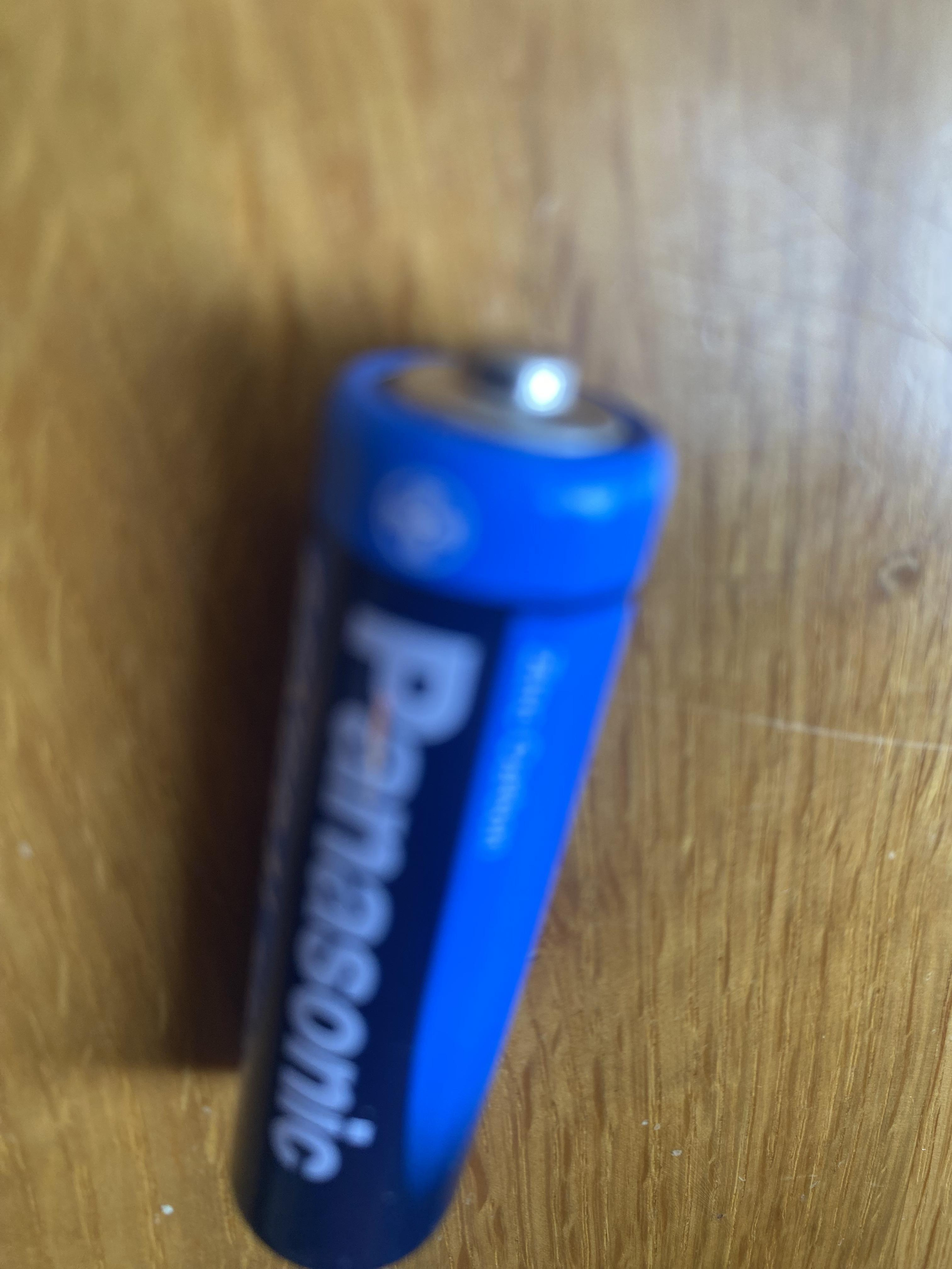AA: (230, 340, 678, 1266)
